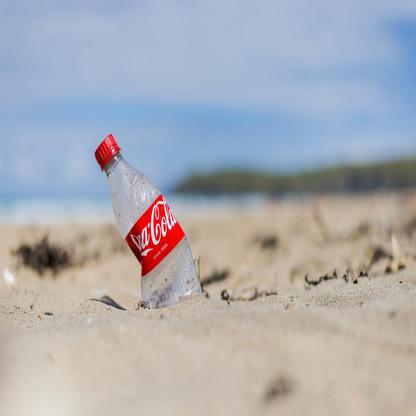plastic bottle: (93, 133, 205, 306)
